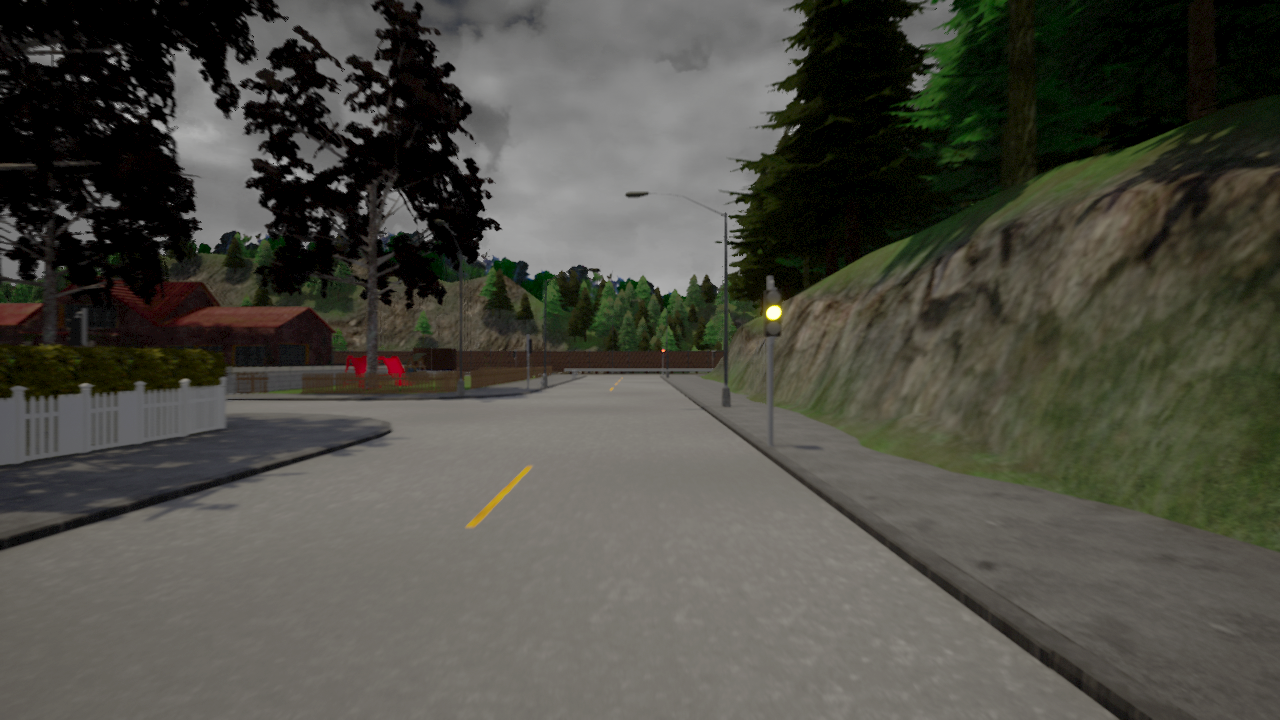yellow: (762, 287, 782, 338)
